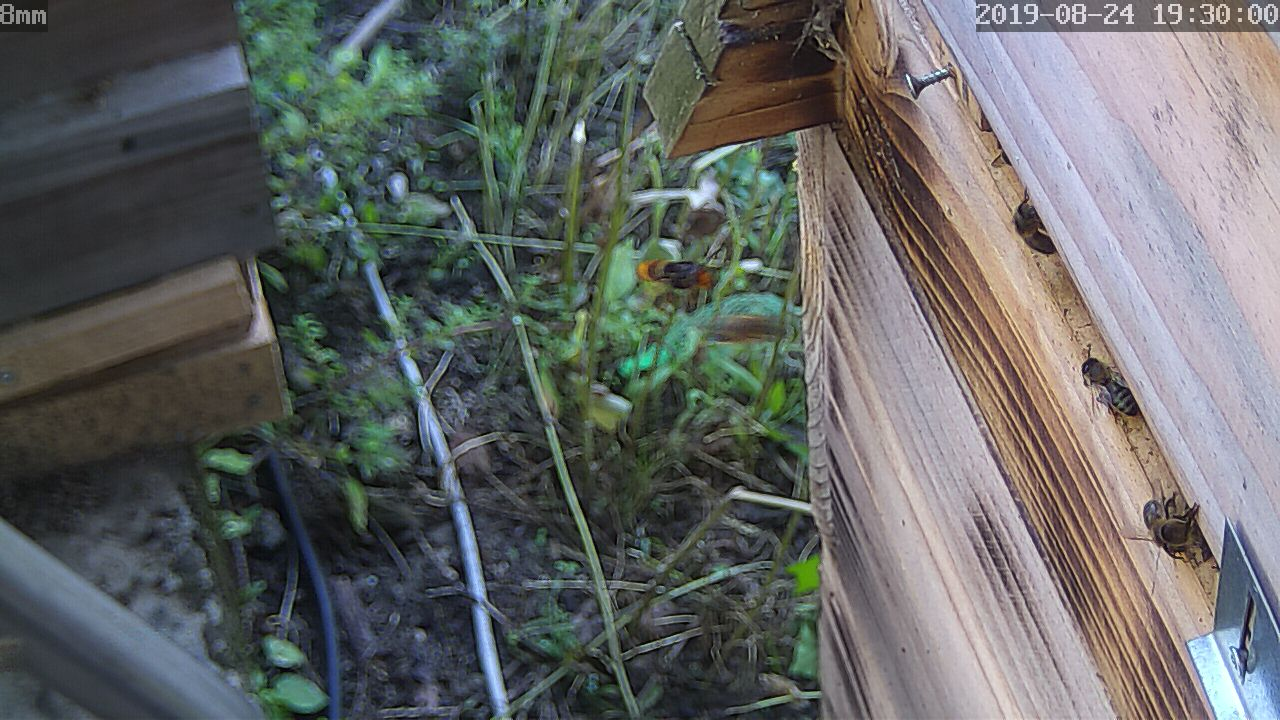bee: (1064, 333, 1148, 427), (1130, 488, 1217, 568), (1010, 191, 1060, 262)
hornet: (633, 247, 736, 309)
